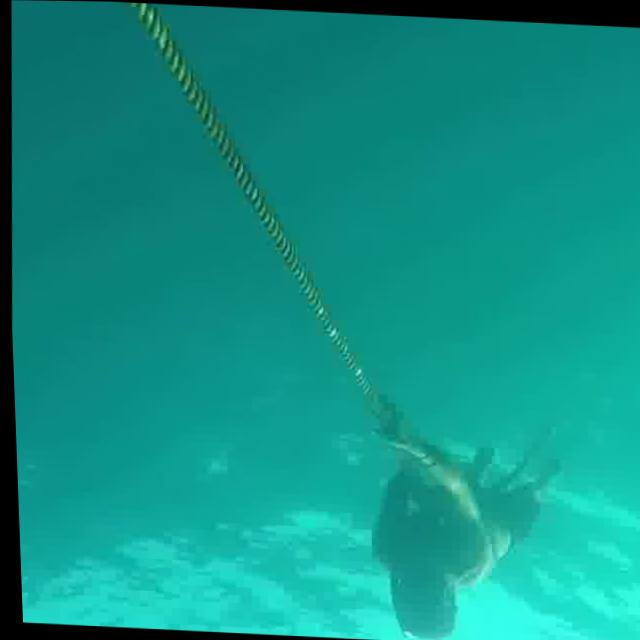human: (343, 388, 578, 640)
